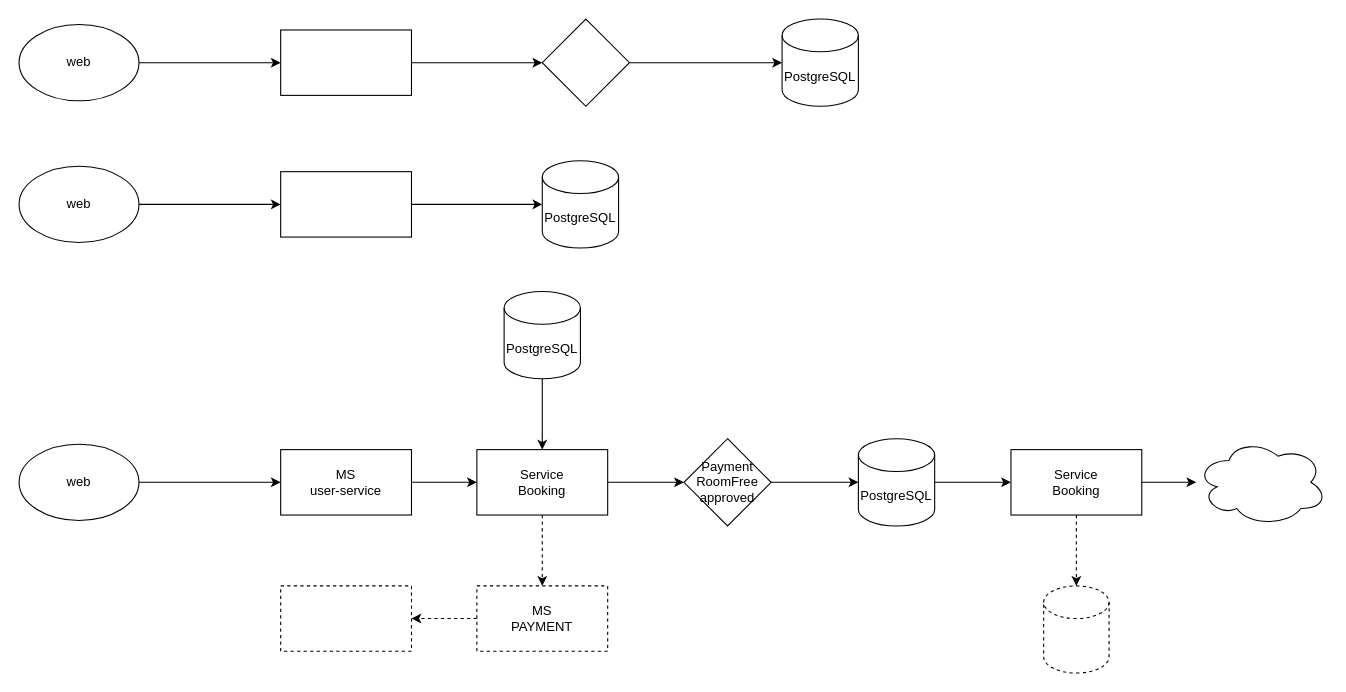
This 1346x692 diagram has some shape labels left out. The centre of each missing label's shape, as x and y in pixels:
"Apache Kafka" goes at (x=1076, y=629).
"auth" goes at (x=585, y=62).
"AWS SQS for notification all service" goes at (x=1261, y=482).
"MS hotel-service" goes at (x=345, y=62).
"MS search-service" goes at (x=345, y=204).
"WALLET USER" goes at (x=345, y=618).
